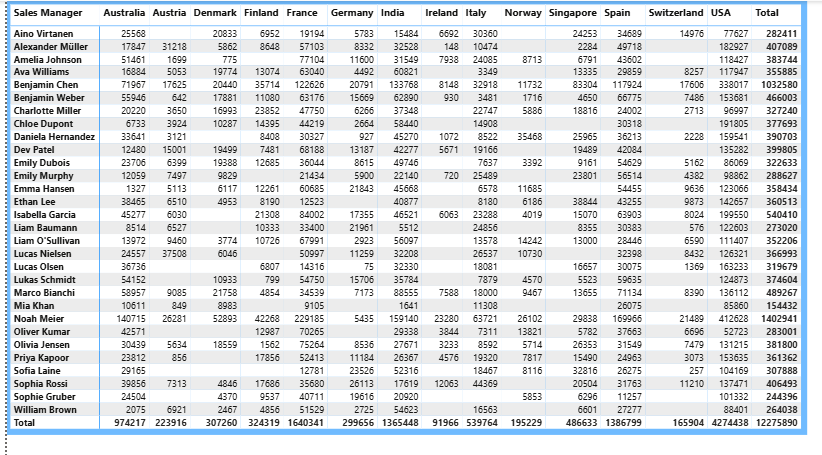

Layout of this report page (visuals, bound fields, positions):
{"tool":"powerbi","page":{"name":"SM Sales by Country","canvas":[1280,720],"ordinal":4},"visuals":[{"type":"pivotTable","fields":{"Rows":["Sales Targets.Sales Manager"],"Values":["Sum(Orders.Order Value)"],"Columns":["Customers.Customer Country"]},"box":[0,0,1170.8,635],"z":0}]}

Visuals, with their boxes in screenshot pixels (x1, y1, x2, y2), scaled from the page's 1280x720 canvas onto the 822x455 screenshot:
pivotTable - Sales Targets.Sales Manager x Sum(Orders.Order Value): box=[0, 0, 752, 401]
